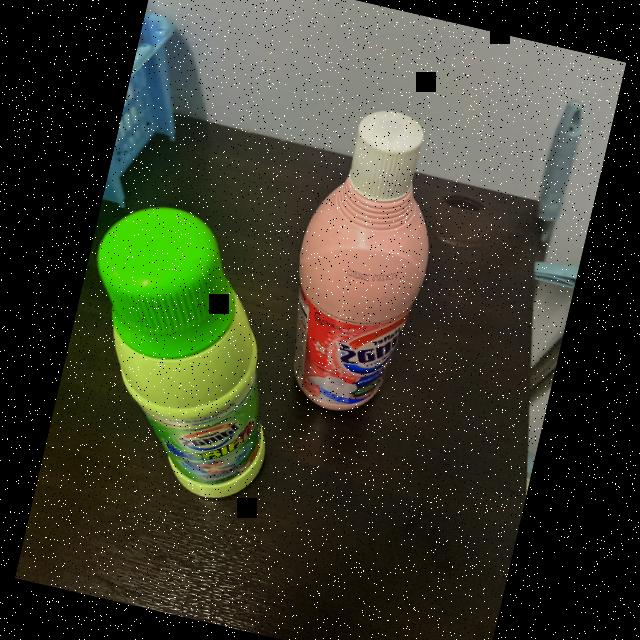chemical_plastic_bottle: (42, 185, 330, 514), (266, 88, 464, 432)
